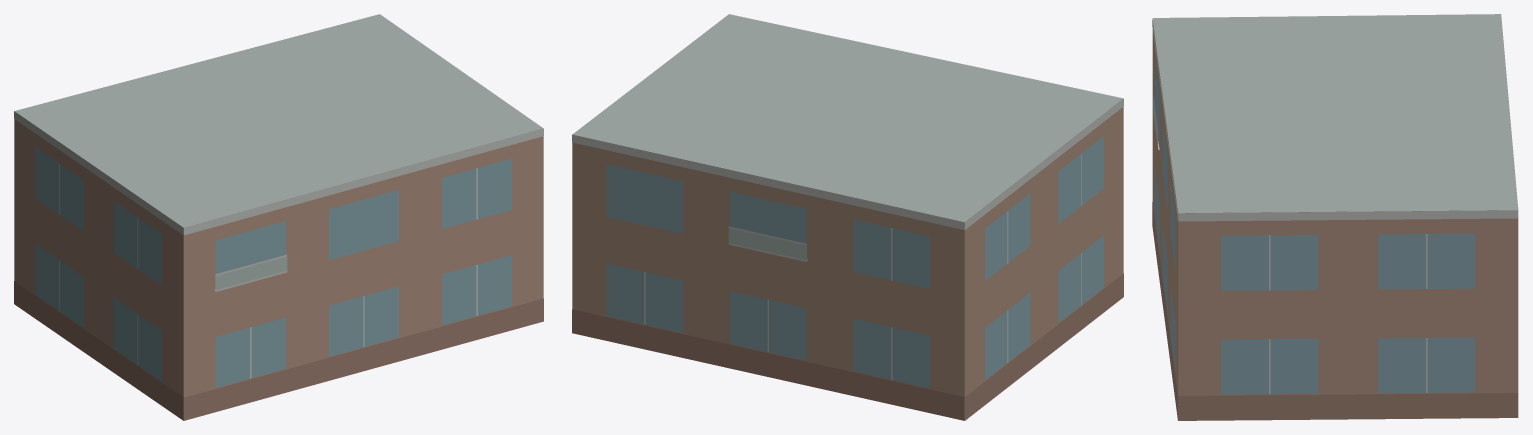
File: survey-upis-32946464.glb
The picture shows the model from 3 angles, left to right: view 1: azimuth 30°, elevation 25°; view 2: azimuth 150°, elevation 25°; view 3: azimuth 270°, elevation 25°; orthographic projection. The views are drawn at different scales.
Parts seen in each view (by area): view 1: survey-upis-32946464.tmp; view 2: survey-upis-32946464.tmp; view 3: survey-upis-32946464.tmp.
Boxes of the visible parts, x1=… form: survey-upis-32946464.tmp: x1=14, y1=14, x2=543, y2=420; survey-upis-32946464.tmp: x1=572, y1=14, x2=1123, y2=420; survey-upis-32946464.tmp: x1=1152, y1=14, x2=1518, y2=420.
Bounding box in the file's own units: 12.56 × 6.1 × 9.75.
